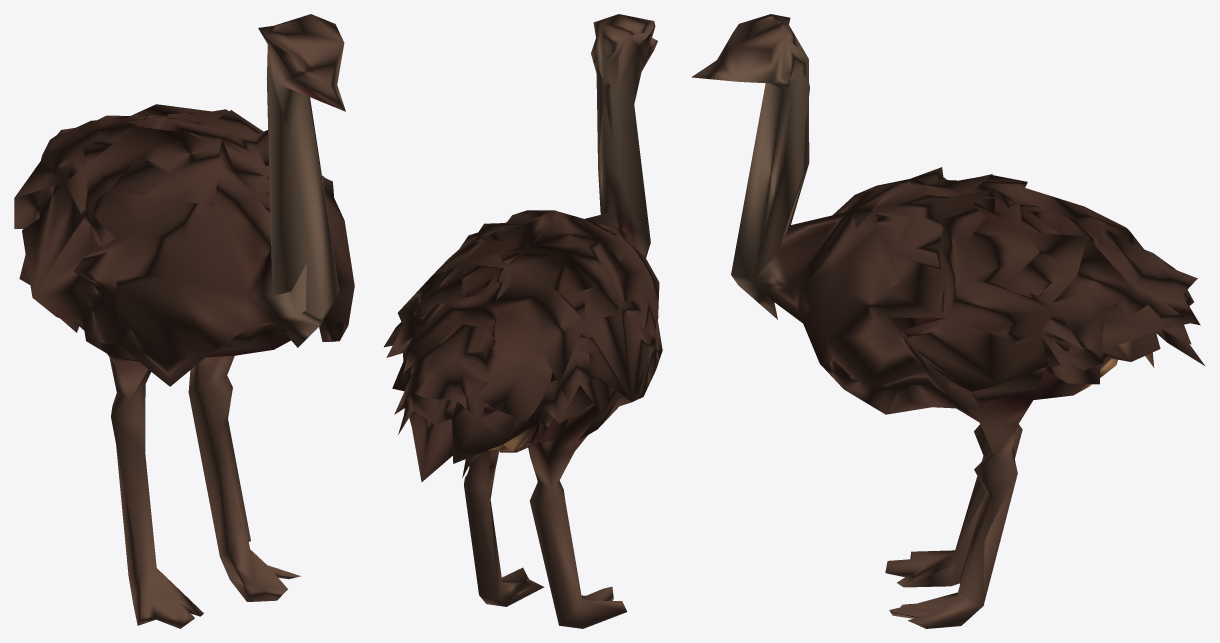
Rendered from gen3d-emu-lod1.glb.
3 views of the same model, side by side, from view 1: azimuth 30°, elevation 25°; view 2: azimuth 150°, elevation 25°; view 3: azimuth 270°, elevation 25° (orthographic). The views are drawn at different scales.
Parts seen in each view (by area): view 1: part_0; view 2: part_0; view 3: part_0.
Part boxes in pixels (x1=…): part_0: x1=14, y1=14, x2=354, y2=628; part_0: x1=384, y1=14, x2=662, y2=628; part_0: x1=691, y1=14, x2=1205, y2=628.
Size of the model in its own units: 0.4546 by 0.9909 by 0.8054.
